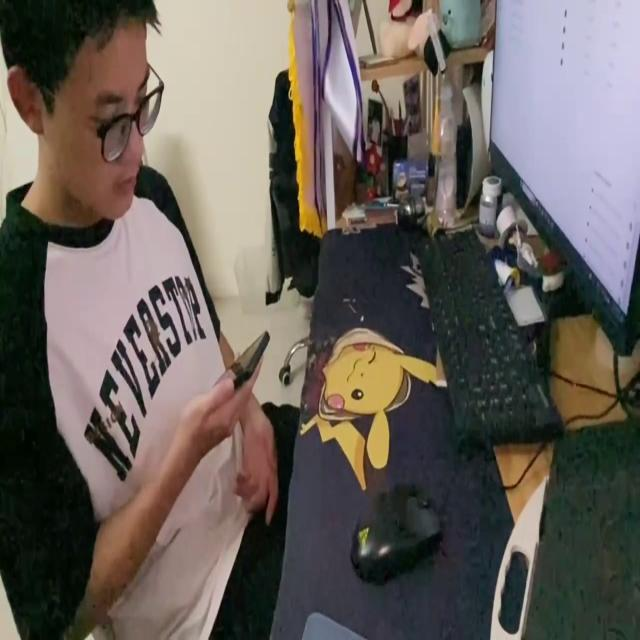laptop: (486, 0, 640, 354)
phone: (203, 330, 271, 388)
student: (1, 2, 288, 640)
